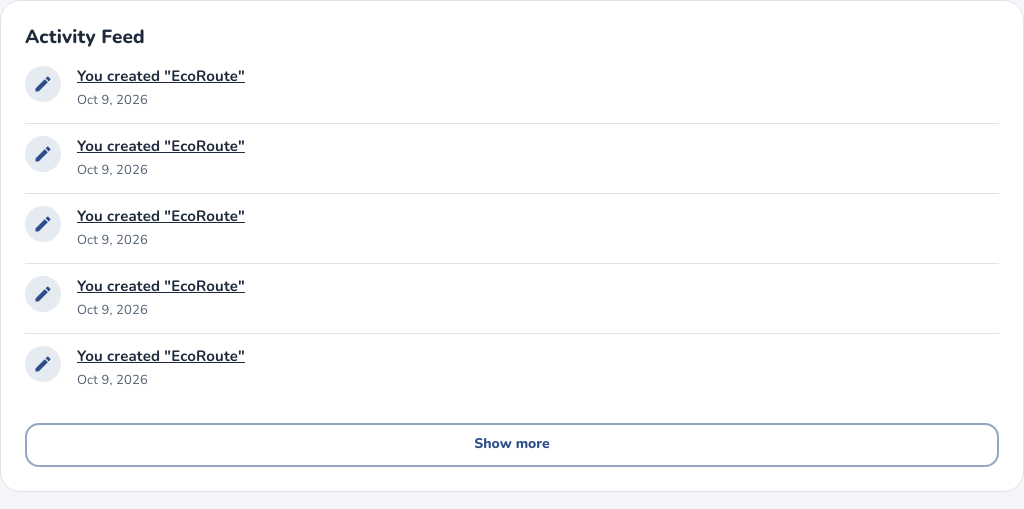
Test: ActivityFeed › a refresh that brings the same entries (a server action refreshes the route) keeps the paged list
Click the button "Show more": [512, 445] box [25, 423, 999, 467]
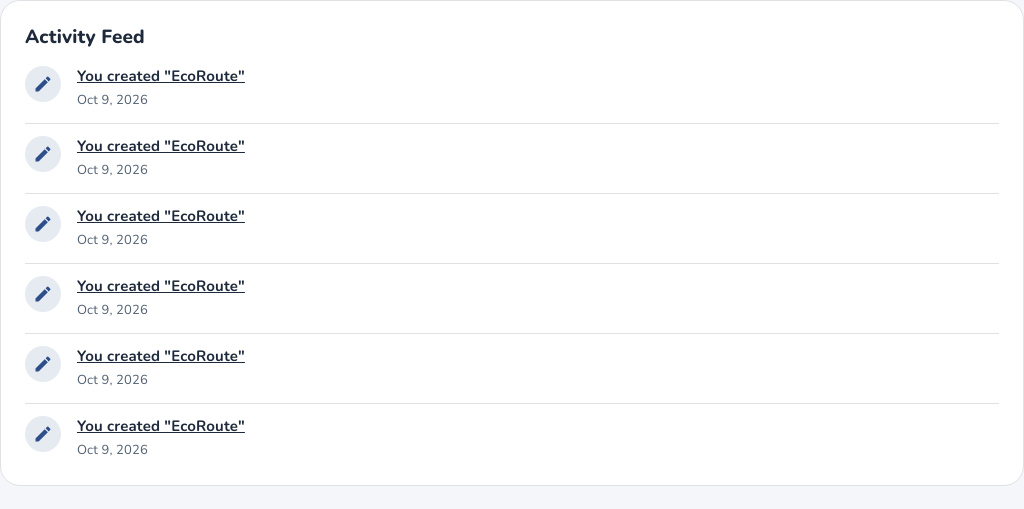
Expected: the number of list items is 6, [25, 66, 245, 109]; [25, 123, 999, 193]; [25, 193, 999, 263]; [25, 263, 999, 333]; [25, 333, 999, 403]; [25, 403, 999, 461]
